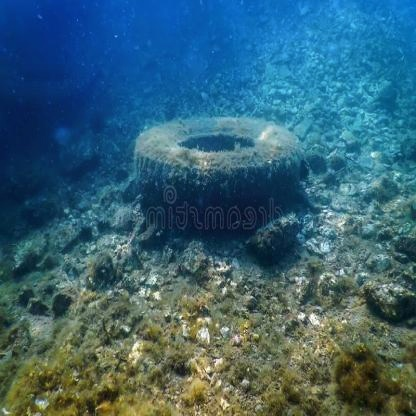tire: (120, 102, 307, 206)
